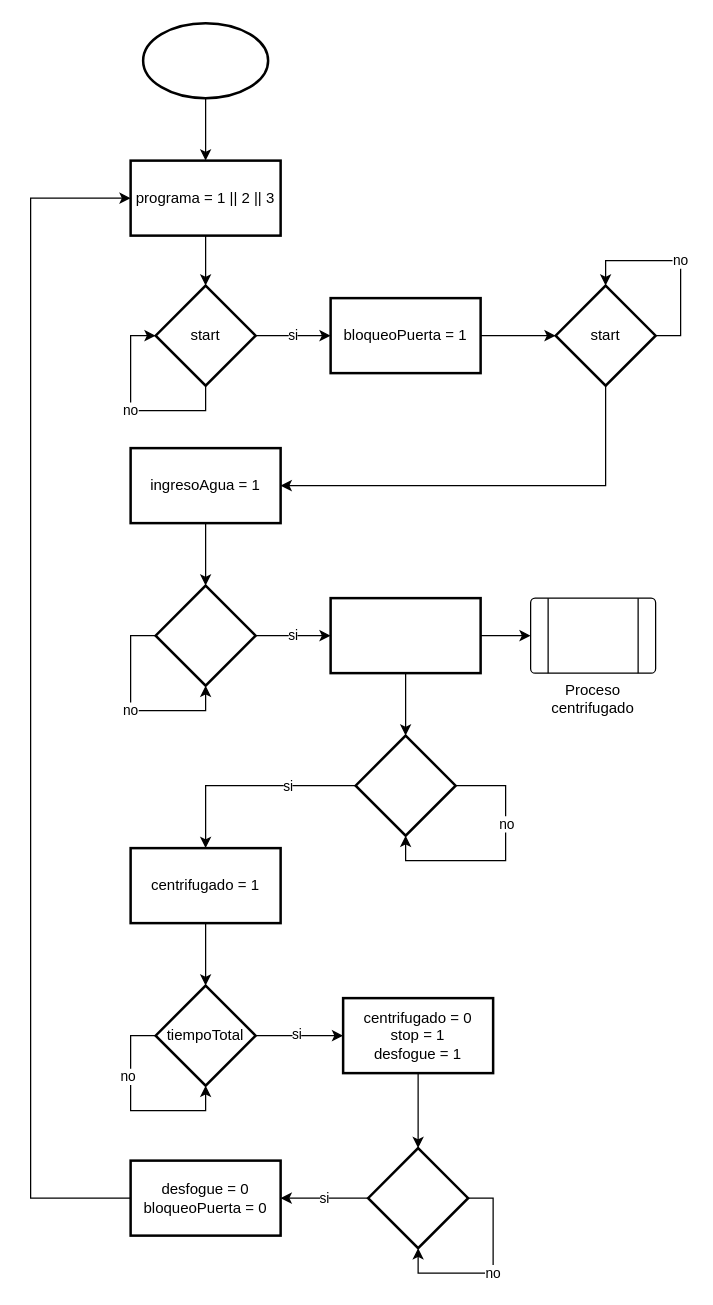
This 713x1305 diagram has some shape labels left out. Each missing label, with the centre of its shape:
"60 s" goes at [417,1197].
"ingresoAgua = 0" goes at [405,635].
"inicio" goes at [205,60].
"nivelAgua" goes at [205,635].
"tiempoTotal - 60 s" goes at [405,785].
